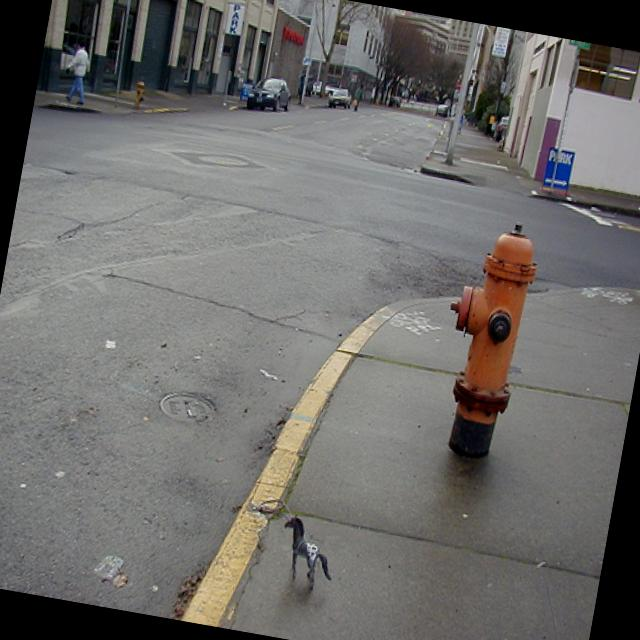Vehicle: (246, 74, 294, 115), (328, 86, 353, 111), (305, 80, 331, 102), (322, 81, 348, 100)
